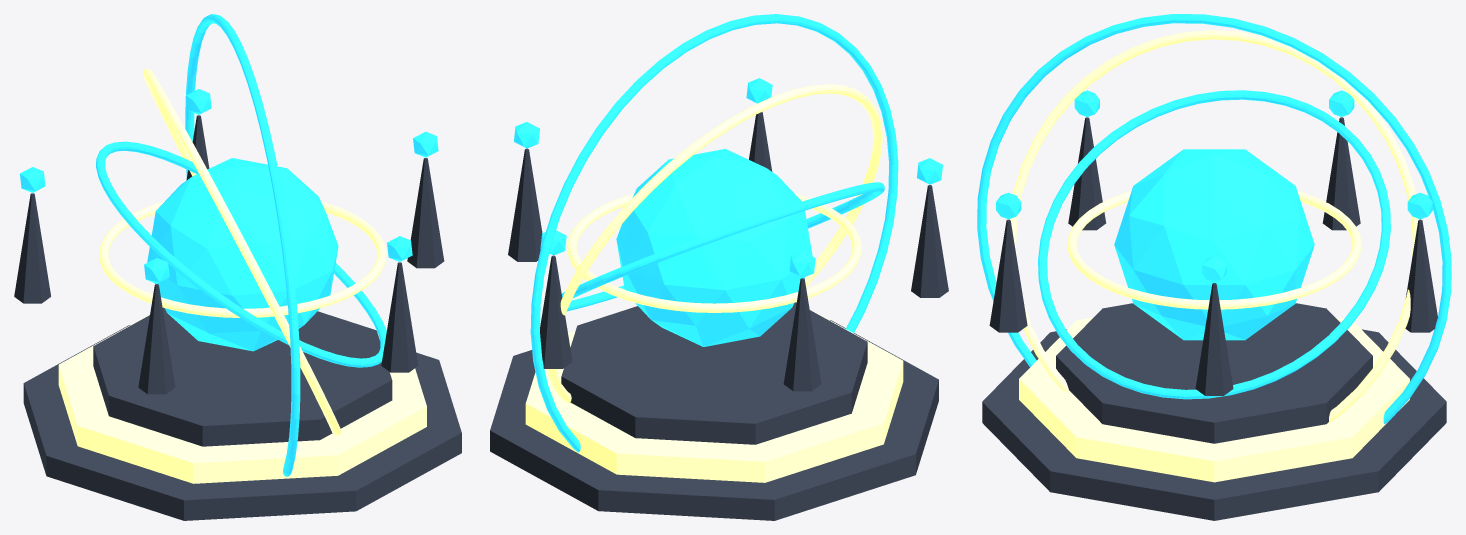
Rendered from gpu-blender-v27.glb.
3 renders of one model, left to right at view 1: azimuth 30°, elevation 25°; view 2: azimuth 150°, elevation 25°; view 3: azimuth 270°, elevation 25°, orthographic. The views are drawn at different scales.
Visible parts, largest first — view 1: Cylinder.002, SovereignCore_agent-capsule-jail, Cylinder, Cylinder.001, Torus.003, Torus.001, Torus.002, Torus, Cone.003, Cone.004, Cone.002, Cone (+5 smaller); view 2: Cylinder.002, SovereignCore_agent-capsule-jail, Cylinder, Cylinder.001, Torus.003, Torus.002, Torus, Torus.001, Cone.002, Cone.003, Cone, Cone.001 (+4 smaller); view 3: SovereignCore_agent-capsule-jail, Cylinder.002, Cylinder, Cylinder.001, Torus.003, Torus.001, Torus.002, Torus, Cone.004, Cone, Cone.001, Cone.002 (+2 smaller).
Part boxes in pixels (x1,y1,x2,y2): Cylinder.002: (93,307,392,446); SovereignCore_agent-capsule-jail: (147,158,338,351); Cylinder: (23,325,461,520); Cylinder.001: (58,315,426,483); Torus.003: (185,14,300,476); Torus.001: (96,141,386,367); Torus.002: (142,68,341,435); Torus: (99,201,386,317); Cone.003: (138,284,175,394); Cone.004: (381,262,418,372); Cone.002: (14,193,50,303); Cone: (407,158,444,268); Cylinder.002: (561,302,867,444); SovereignCore_agent-capsule-jail: (616,149,812,346); Cylinder: (490,320,938,520); Cylinder.001: (525,310,903,482); Torus.003: (530,14,898,452); Torus.002: (547,84,882,403); Torus: (567,193,861,312); Torus.001: (561,182,884,311); Cone.002: (783,278,821,391); Cone.003: (911,185,948,297); Cone: (508,148,542,261); Cone.001: (540,255,572,368); SovereignCore_agent-capsule-jail: (1114,149,1314,340); Cylinder.002: (1056,303,1372,443); Cylinder: (982,329,1446,520); Cylinder.001: (1019,317,1409,482); Torus.003: (977,14,1451,424); Torus.001: (1038,90,1390,399); Torus.002: (1008,30,1420,422); Torus: (1067,191,1361,309); Cone.004: (989,219,1027,332); Cone: (1195,283,1233,395); Cone.001: (1405,219,1437,332); Cone.002: (1322,117,1360,230).
Bounding box in the file's own units: 4.41 × 4.7 × 4.49.
